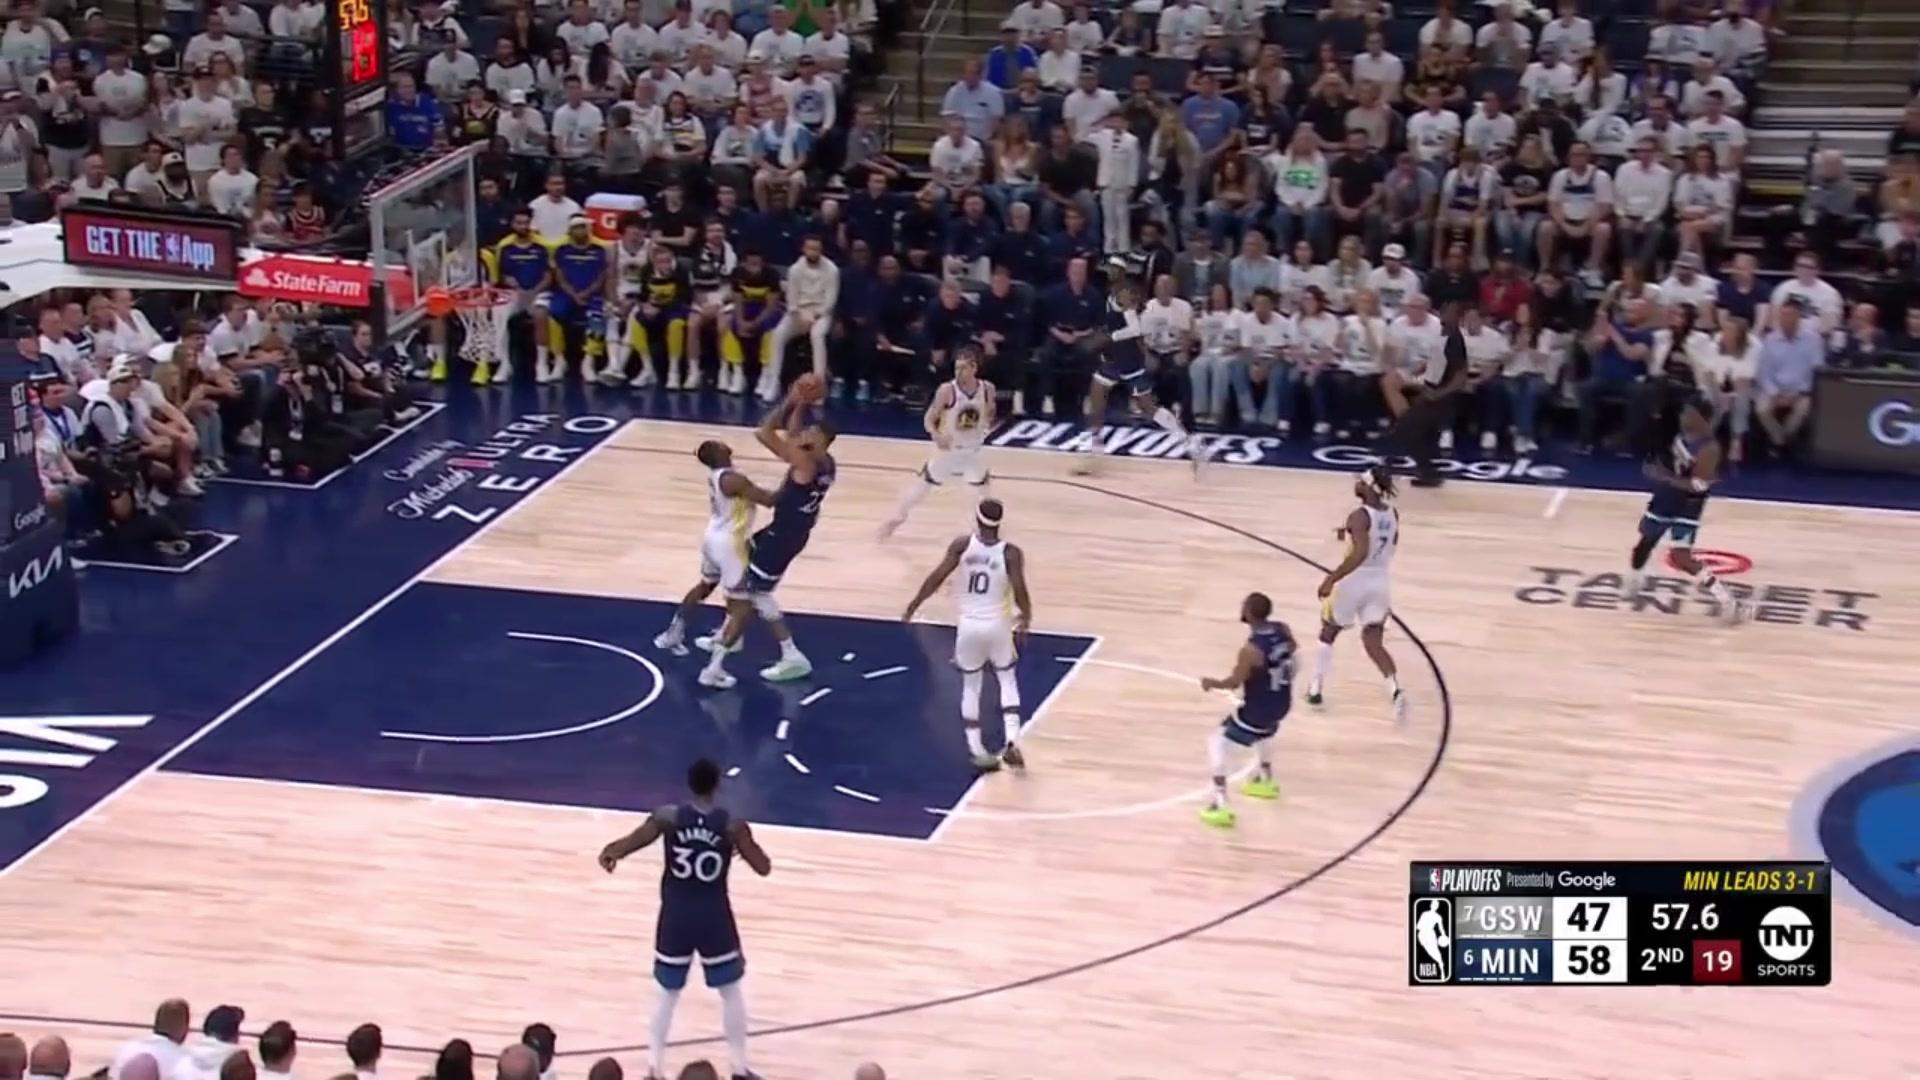foul: (682, 405, 845, 676)
